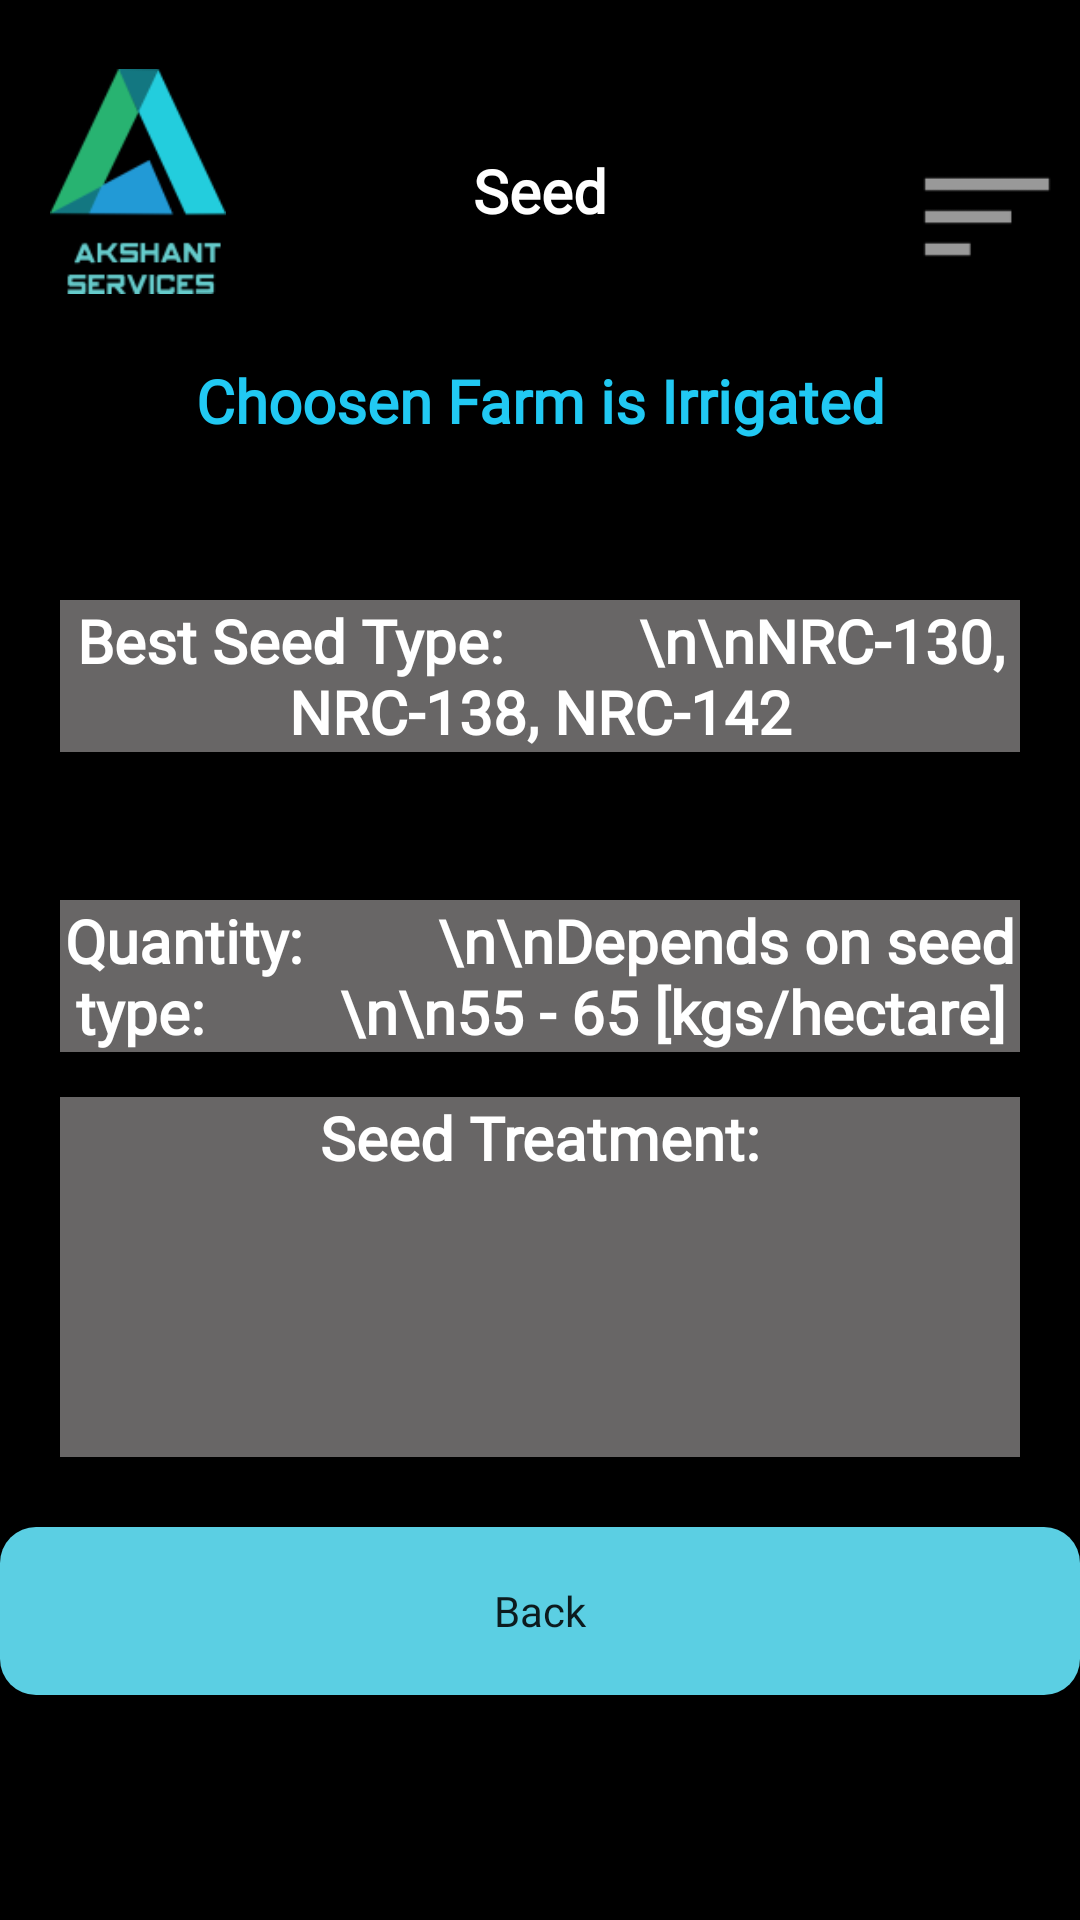

Icon click points for this 1080 × 1920 phone screenshot, format (x,y):
sort by size: (987,216)
